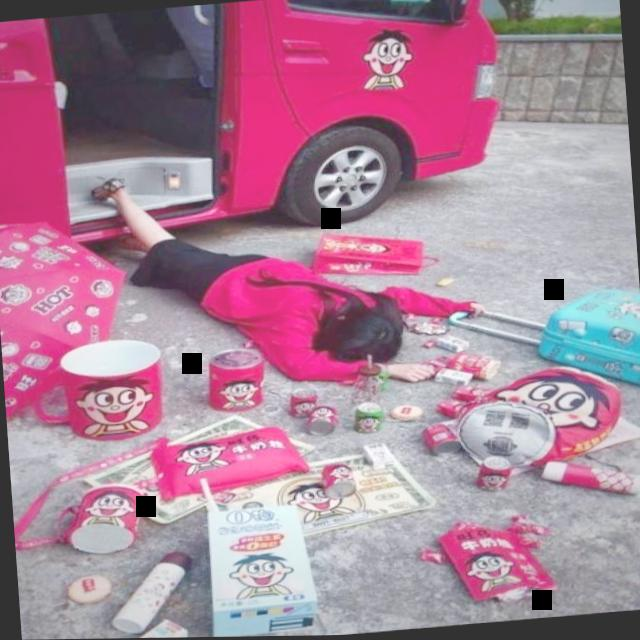Fall-Detected: (80, 132, 464, 412)
